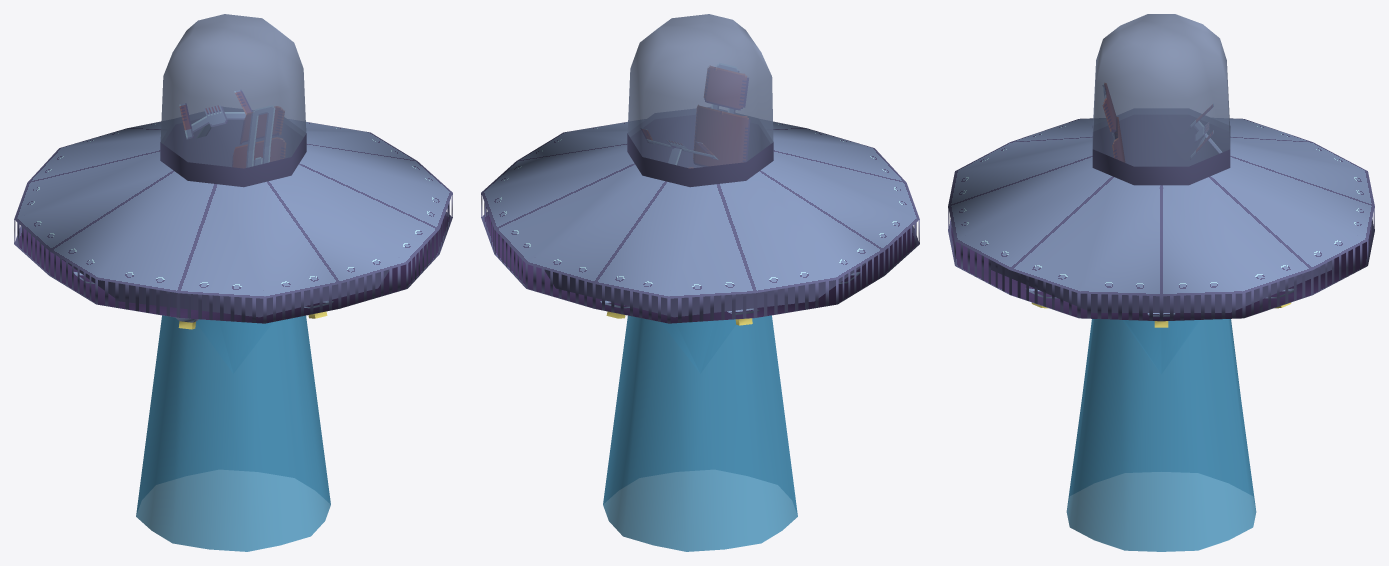
File: UFO.gltf
The picture shows the model from 3 angles, left to right: view 1: azimuth 30°, elevation 25°; view 2: azimuth 150°, elevation 25°; view 3: azimuth 270°, elevation 25°; orthographic projection.
Visible parts, largest first — view 1: ufo, beam, seat, controls; view 2: ufo, beam, seat, controls; view 3: ufo, beam, seat.
Boxes of the visible parts, bbox=[...] form: ufo: bbox=[14, 14, 452, 323]; beam: bbox=[136, 315, 330, 551]; seat: bbox=[232, 105, 285, 168]; controls: bbox=[179, 90, 252, 138]; ufo: bbox=[481, 14, 919, 323]; beam: bbox=[603, 315, 797, 551]; seat: bbox=[689, 63, 749, 168]; controls: bbox=[640, 128, 717, 164]; ufo: bbox=[948, 14, 1374, 321]; beam: bbox=[1066, 319, 1256, 551]; seat: bbox=[1102, 83, 1124, 162].
Size of the model in its own units: 3.88 by 4.88 by 3.88.
4 materials, 4 textured.
